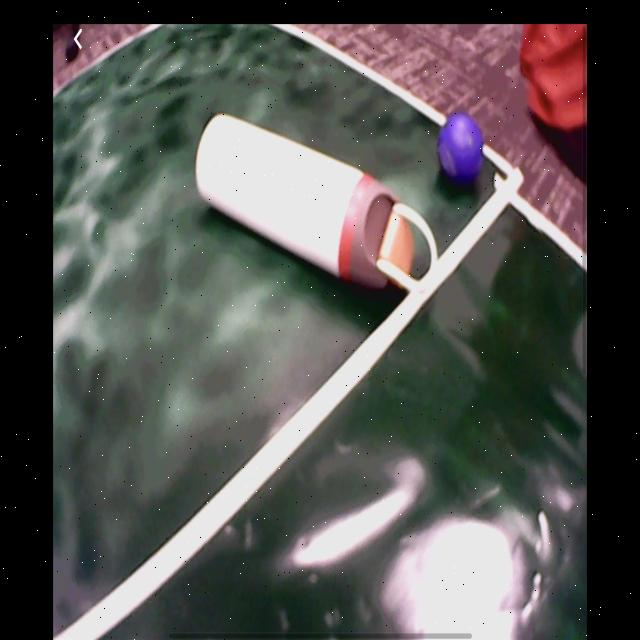ball: (436, 114, 484, 189)
